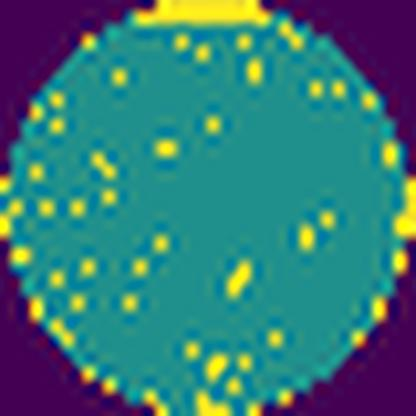Edge-Loc: (122, 0, 274, 32)
